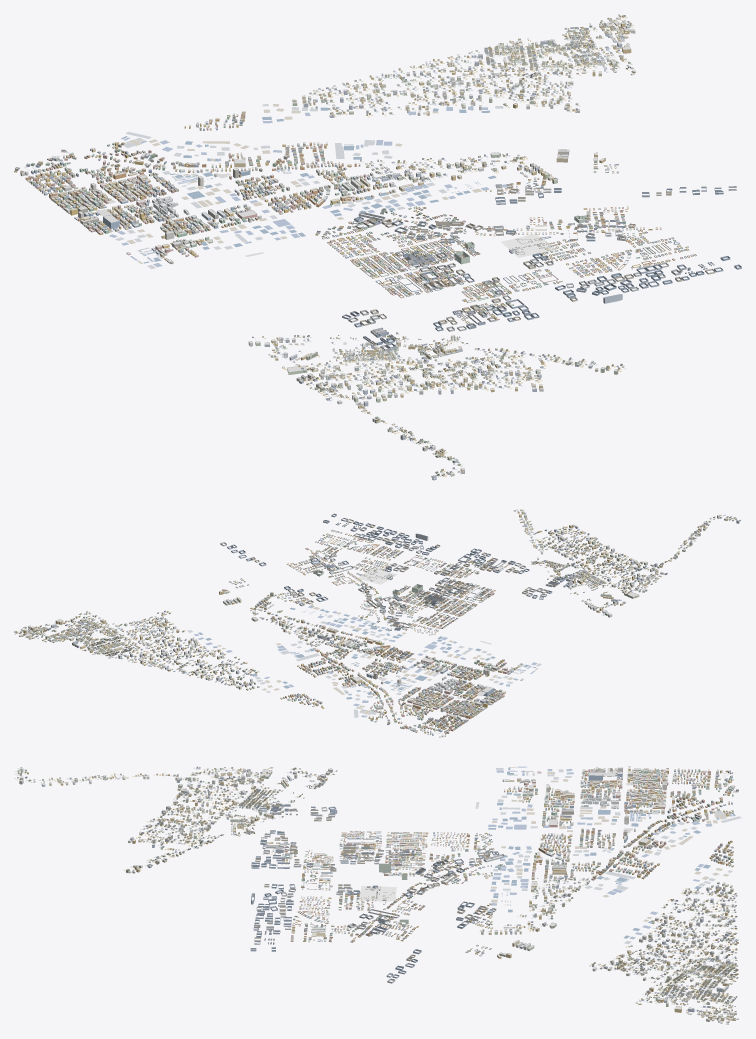
3 renders of one model, top to bottom at view 1: azimuth 30°, elevation 25°; view 2: azimuth 150°, elevation 25°; view 3: azimuth 270°, elevation 25°, orthographic. The views are drawn at different scales.
Parts seen in each view (by area): view 1: apartment, roof_zinc, house, shop, roof_flat, factory, parking; view 2: apartment, house, roof_zinc, shop, roof_flat, factory, parking; view 3: apartment, roof_zinc, house, roof_flat, shop, factory, parking.
Boxes of the visible parts, left/top/right/bottom form: apartment: left=14, top=19, right=635, bottom=480; roof_zinc: left=63, top=16, right=635, bottom=478; house: left=61, top=14, right=633, bottom=477; shop: left=315, top=163, right=696, bottom=326; roof_flat: left=14, top=20, right=634, bottom=476; factory: left=342, top=184, right=741, bottom=350; parking: left=501, top=233, right=556, bottom=257; apartment: left=18, top=511, right=739, bottom=737; house: left=14, top=509, right=740, bottom=729; roof_zinc: left=15, top=509, right=741, bottom=727; shop: left=229, top=529, right=512, bottom=635; roof_flat: left=19, top=511, right=738, bottom=736; factory: left=220, top=513, right=575, bottom=631; parking: left=358, top=567, right=397, bottom=584; apartment: left=19, top=766, right=736, bottom=1024; roof_zinc: left=14, top=766, right=741, bottom=1020; house: left=17, top=766, right=738, bottom=1020; roof_flat: left=20, top=766, right=735, bottom=1023; shop: left=261, top=831, right=494, bottom=956; factory: left=250, top=804, right=504, bottom=983; parking: left=359, top=886, right=396, bottom=901.
Size of the model in its own units: 1.21e+08 by 1599670 by 1.46e+08.
